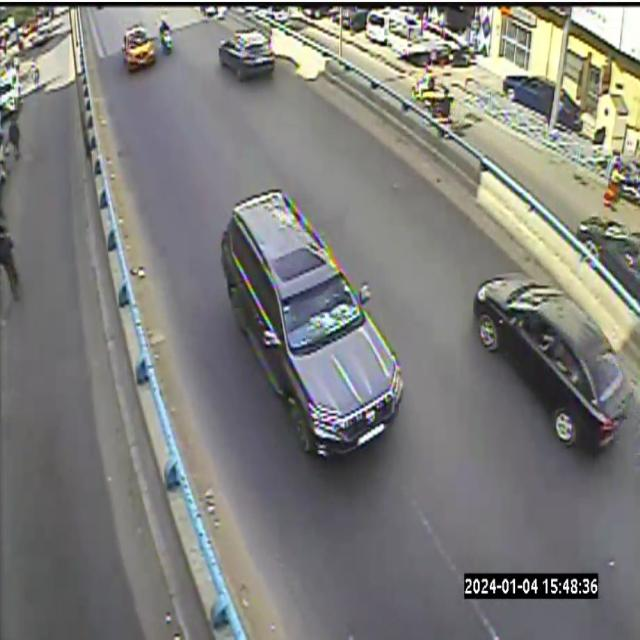car: (221, 191, 402, 456), (473, 273, 632, 452), (220, 31, 275, 80), (123, 25, 155, 71)
